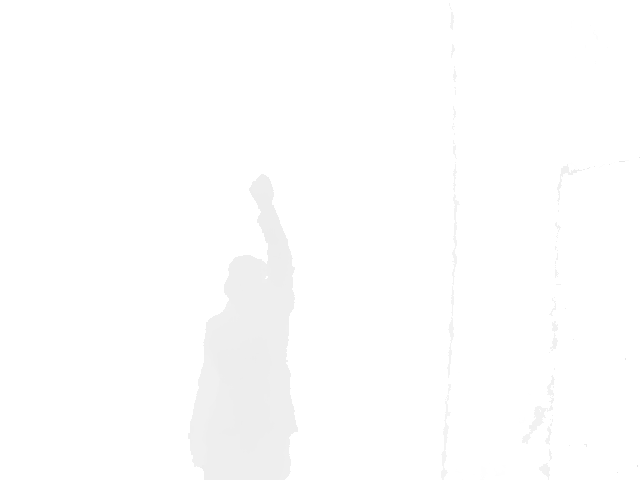hand: (247, 173, 275, 206)
head: (223, 255, 269, 300)
person: (187, 173, 301, 480)
